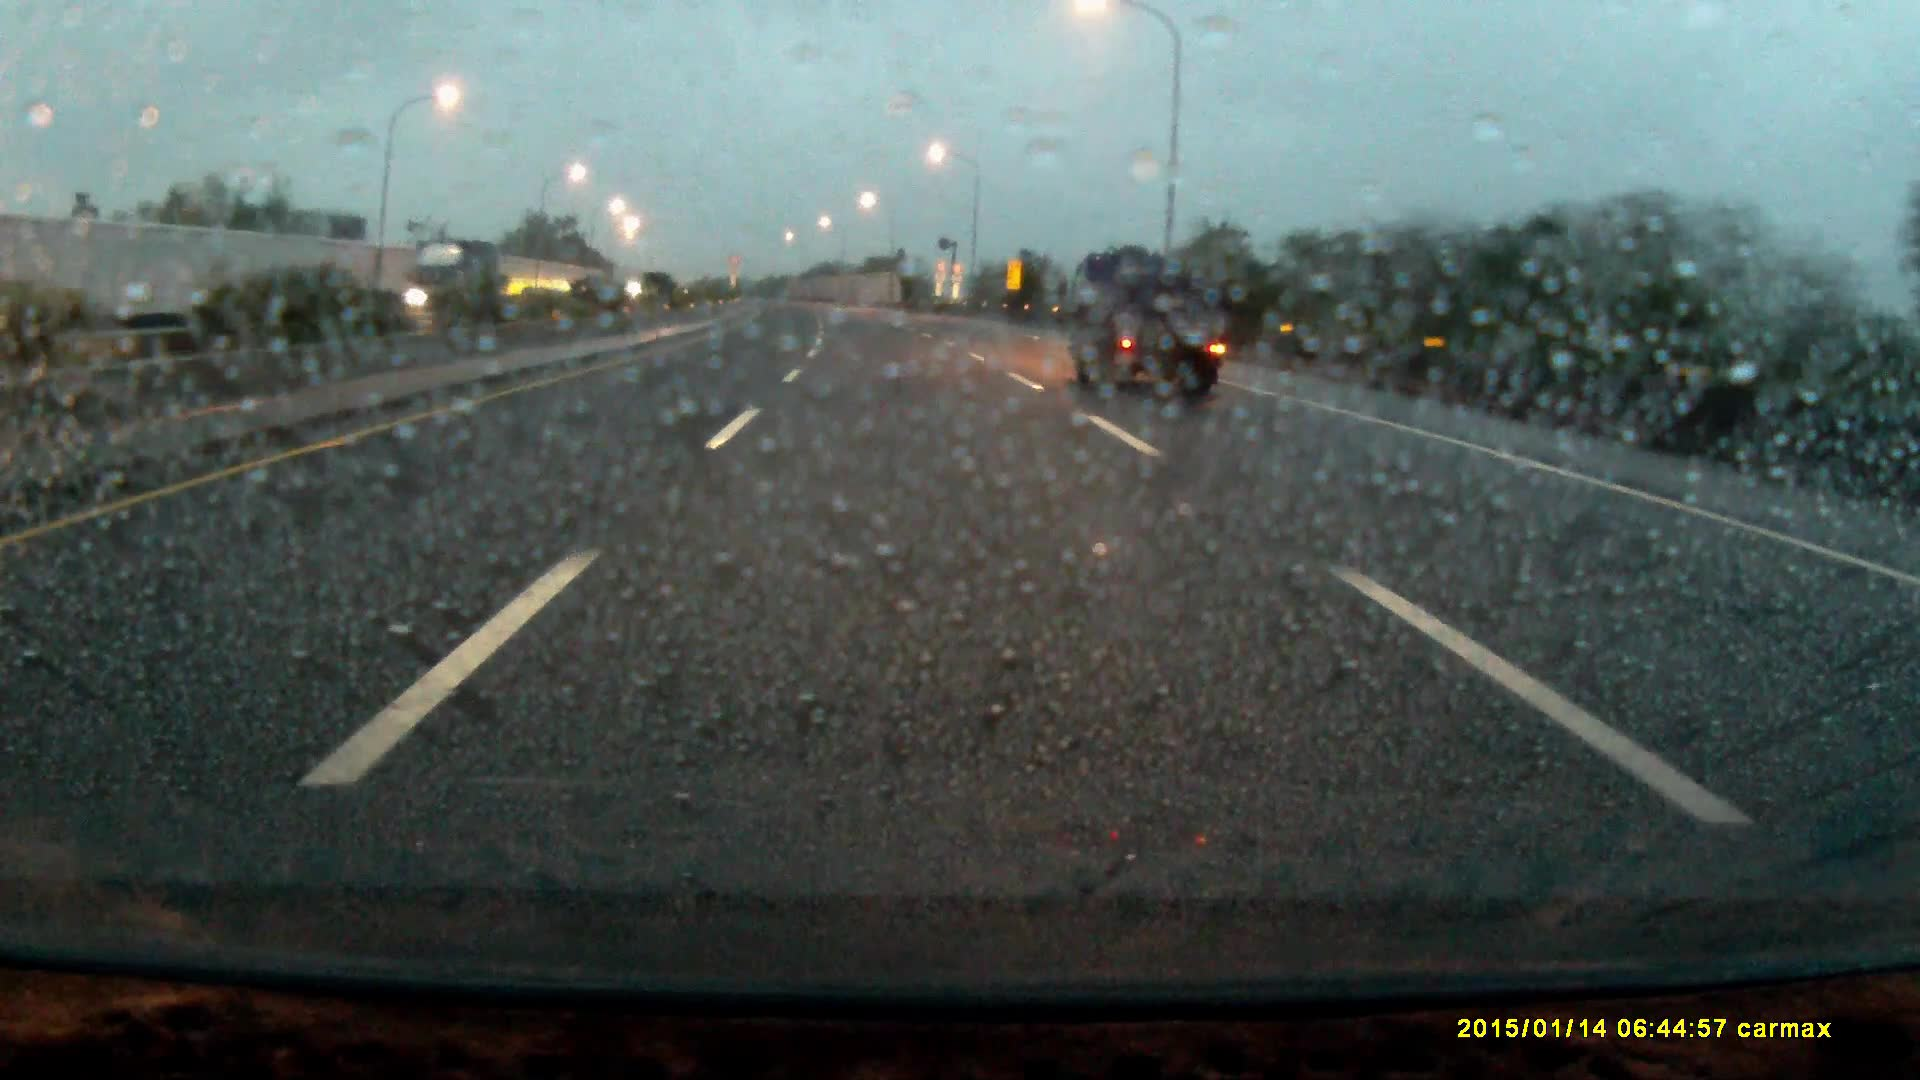vehicle: (1065, 251, 1220, 404), (407, 240, 502, 328)
